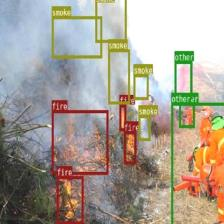fire: (52, 110, 108, 174), (56, 175, 83, 224), (124, 132, 136, 164), (119, 104, 126, 130)
smoke: (51, 16, 102, 58), (95, 0, 126, 42), (107, 49, 130, 104), (133, 74, 148, 100), (138, 115, 150, 140)
